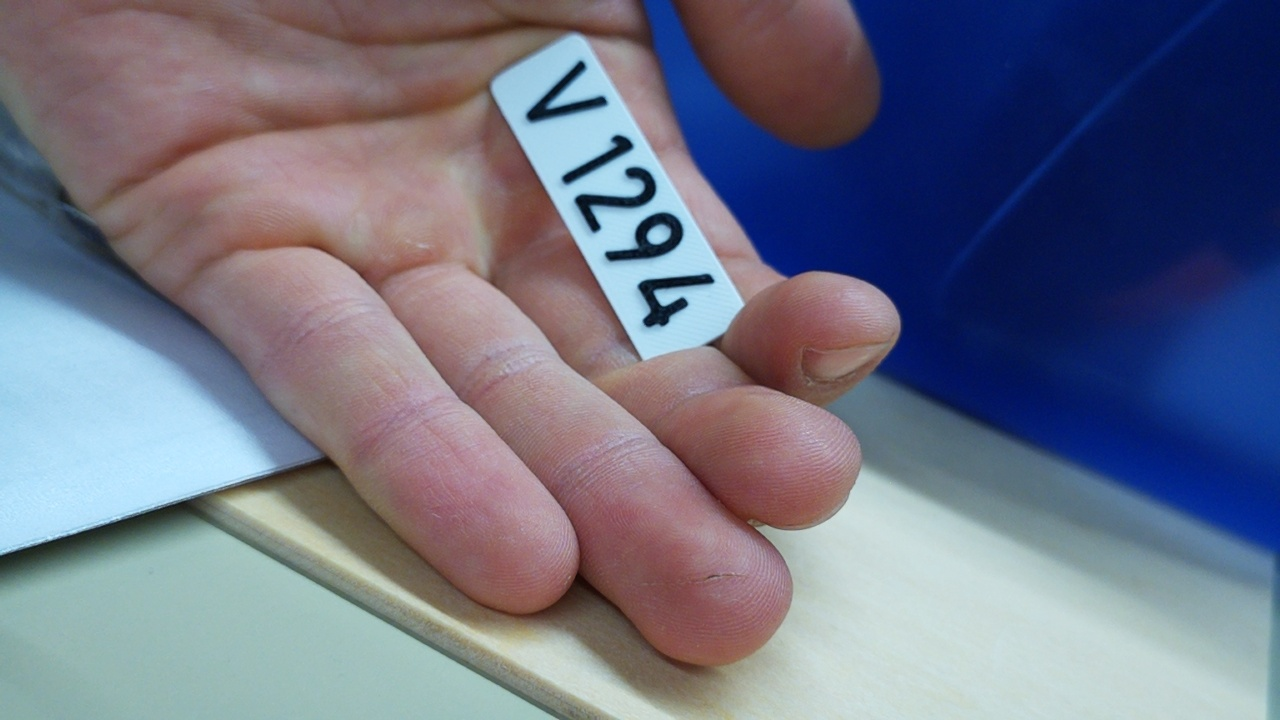license_plate: (483, 27, 751, 365)
